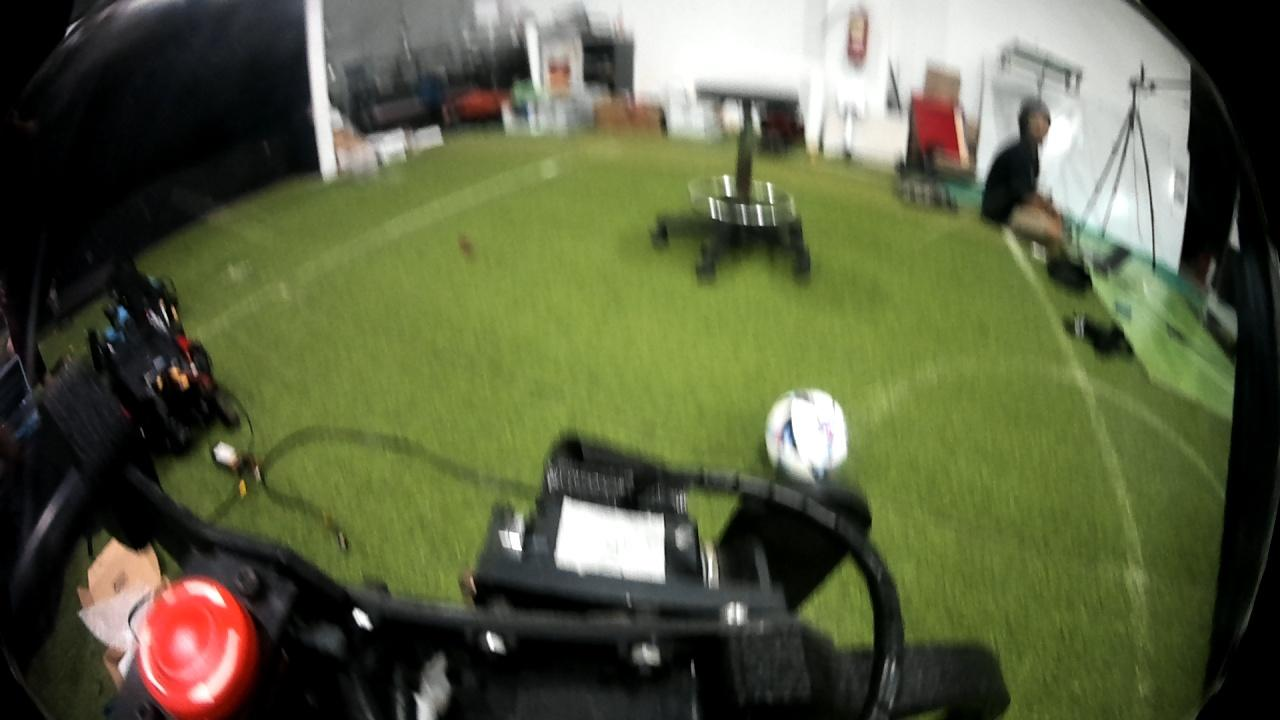ball: (759, 380, 855, 487)
